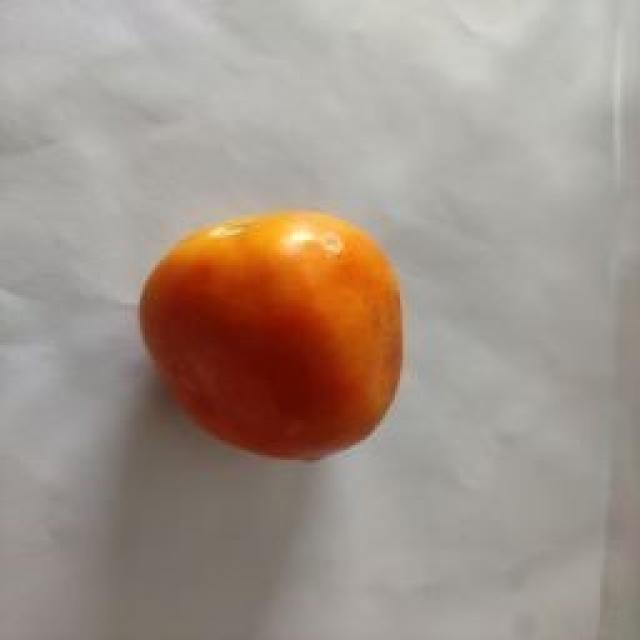Ripe: (136, 204, 412, 466)
